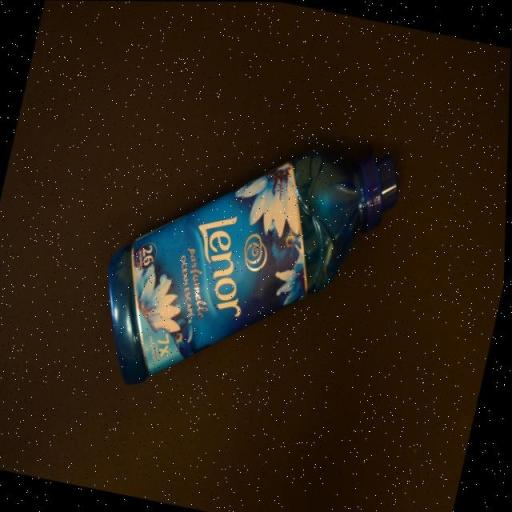plastic: (86, 108, 406, 428)
